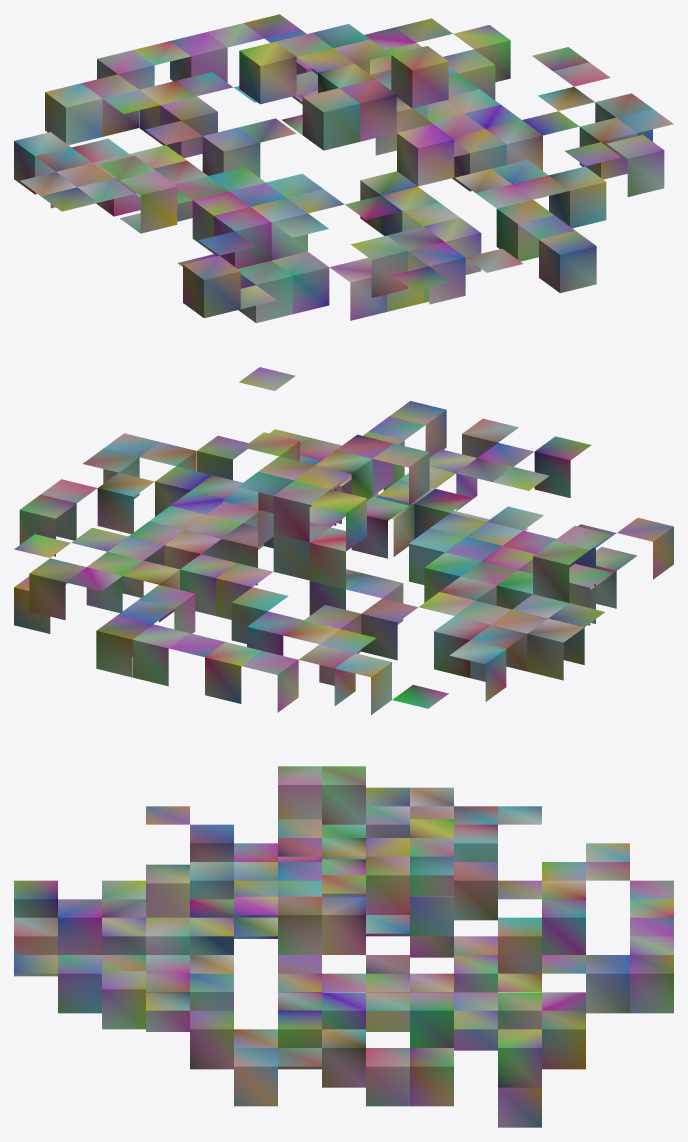
Rendered from igloo_cage.glb.
3 renders of one model, top to bottom at view 1: azimuth 30°, elevation 25°; view 2: azimuth 150°, elevation 25°; view 3: azimuth 270°, elevation 25°, orthographic. The views are drawn at different scales.
Parts seen in each view (by area): view 1: igloo-cage; view 2: igloo-cage; view 3: igloo-cage.
Boxes of the visible parts, x1,y1,x2,y2 form: igloo-cage: (14,14,673,323); igloo-cage: (14,367,673,714); igloo-cage: (14,766,673,1127).
Bounding box in the file's own units: 30 × 8 × 30.
